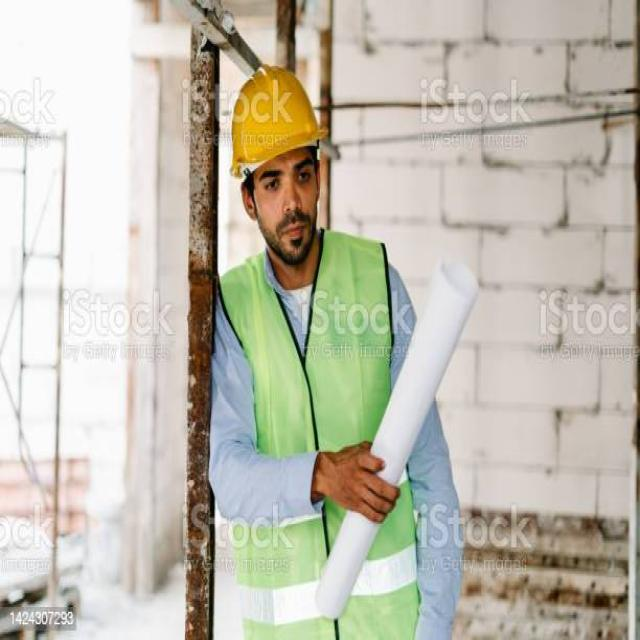helmet: (228, 69, 329, 155)
no-goggles: (244, 157, 328, 202)
vest: (223, 244, 411, 638)
